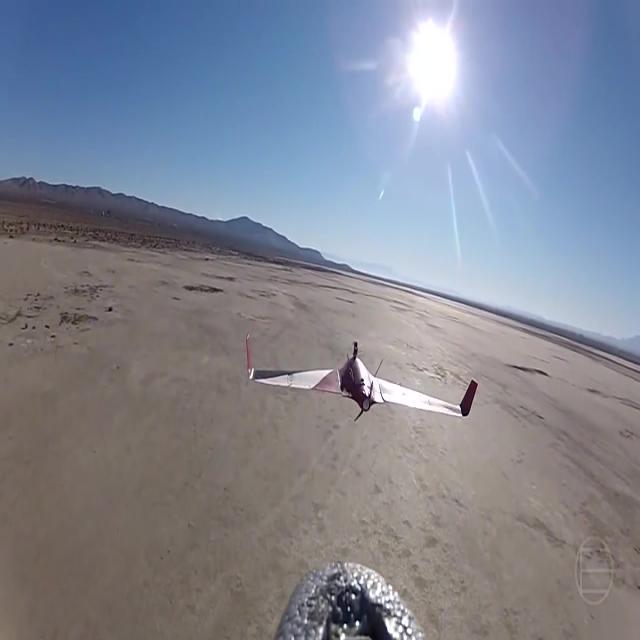iha: (243, 361, 479, 389)
